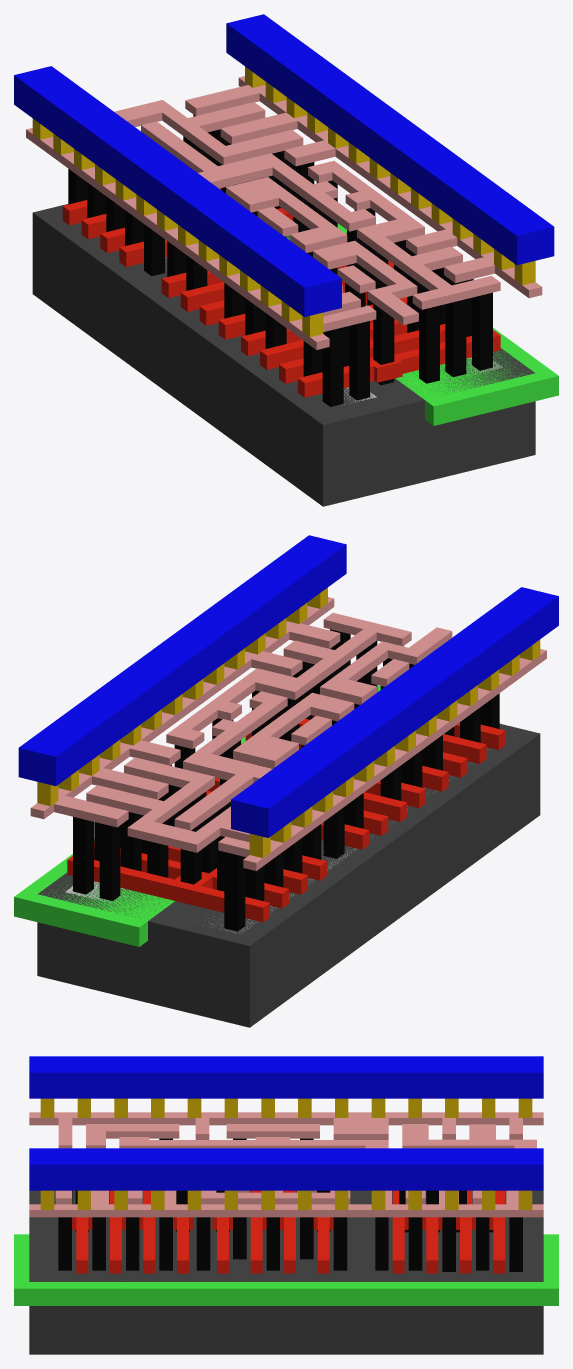
File: sky130_fd_sc_hd__a22o_4.obj
3 renders of one model, top to bottom at view 1: azimuth 30°, elevation 25°; view 2: azimuth 150°, elevation 25°; view 3: azimuth 270°, elevation 25°, orthographic. The views are drawn at different scales.
Parts seen in each view (by area): view 1: subs, metal1, li, licon, poly, mcon, nwell; view 2: subs, metal1, li, licon, poly, mcon, nwell; view 3: metal1, subs, li, nwell, licon, poly, mcon.
Boxes of the visible parts, left/top/right/bottom form: subs: left=32, top=204, right=535, bottom=506; metal1: left=14, top=14, right=554, bottom=316; li: left=26, top=76, right=542, bottom=349; licon: left=68, top=114, right=492, bottom=406; poly: left=62, top=188, right=500, bottom=397; mcon: left=32, top=66, right=535, bottom=336; nwell: left=286, top=223, right=558, bottom=425; subs: left=37, top=723, right=540, bottom=1027; metal1: left=18, top=535, right=558, bottom=837; li: left=30, top=597, right=546, bottom=870; licon: left=73, top=629, right=499, bottom=931; poly: left=67, top=715, right=505, bottom=922; mcon: left=37, top=587, right=540, bottom=857; nwell: left=14, top=685, right=380, bottom=946; metal1: left=29, top=1056, right=543, bottom=1190; subs: left=29, top=1190, right=543, bottom=1354; li: left=29, top=1112, right=543, bottom=1217; nwell: left=14, top=1234, right=558, bottom=1305; licon: left=58, top=1138, right=522, bottom=1271; poly: left=72, top=1190, right=505, bottom=1273; mcon: left=40, top=1098, right=532, bottom=1209.
Size of the model in its own units: 3.2 by 2.74 by 6.82.
